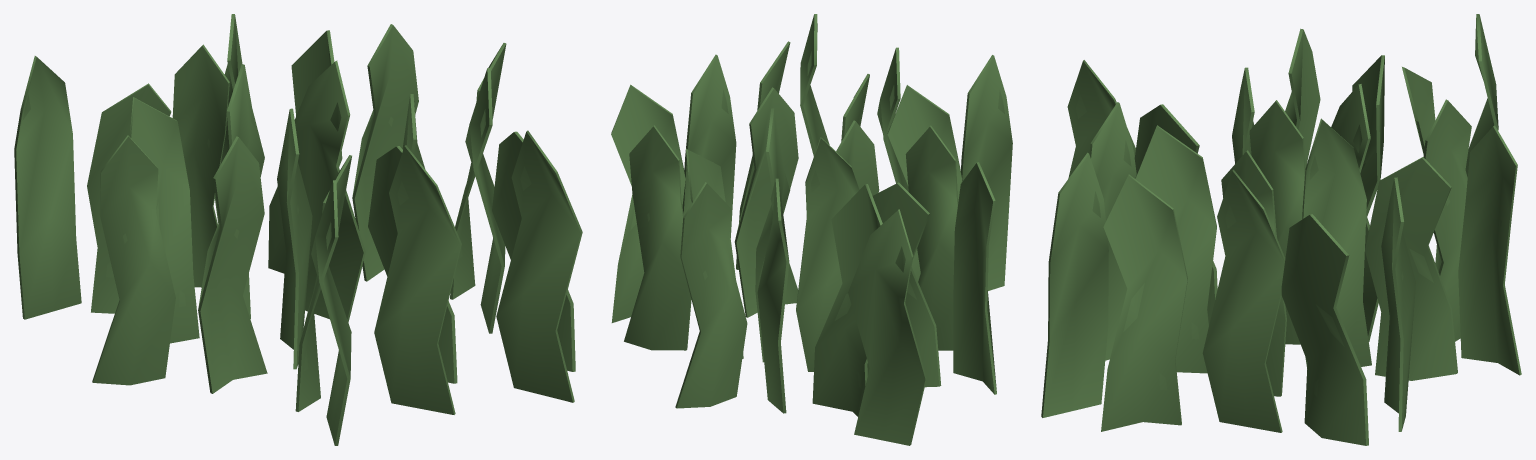
File: FMP_Grass_Shaded_2.fbx
3 views of the same model, side by side, from view 1: azimuth 30°, elevation 25°; view 2: azimuth 150°, elevation 25°; view 3: azimuth 270°, elevation 25° (orthographic). The views are drawn at different scales.
Parts seen in each view (by area): view 1: pCube79; view 2: pCube79; view 3: pCube79.
Boxes of the visible parts, left/top/right/bottom form: pCube79: left=14, top=14, right=582, bottom=445; pCube79: left=611, top=14, right=1012, bottom=445; pCube79: left=1041, top=14, right=1521, bottom=445.
Size of the model in its own units: 158 by 95.07 by 163.
